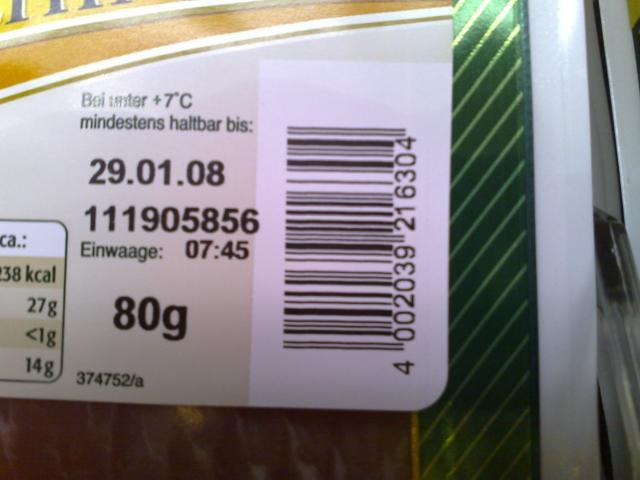Barcode: (259, 104, 425, 392)
